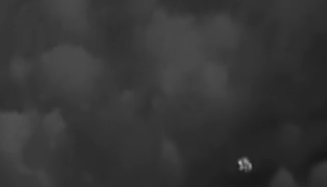Target: (238, 157, 251, 171)
